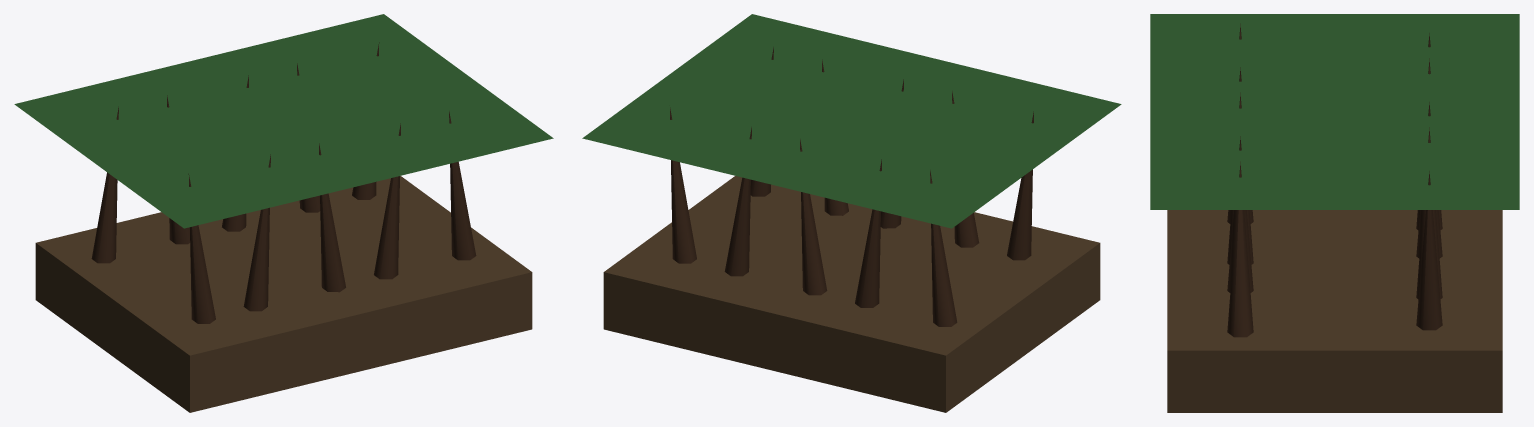
File: punji-trap.glb
3 views of the same model, side by side, from view 1: azimuth 30°, elevation 25°; view 2: azimuth 150°, elevation 25°; view 3: azimuth 270°, elevation 25° (orthographic). The views are drawn at different scales.
Parts seen in each view (by area): view 1: pit, leafCover, stake7, stake9, stake10, stake8, stake6, stake1; view 2: pit, leafCover, stake3, stake1, stake5, stake4, stake2, stake6, stake7; view 3: leafCover, pit, stake10, stake5, stake4, stake9, stake3, stake8.
Boxes of the visible parts, <box> form: pit: <box>35,176,532,412</box>; leafCover: <box>14,14,553,228</box>; stake7: <box>243,154,270,311</box>; stake9: <box>374,123,400,279</box>; stake10: <box>449,111,476,260</box>; stake8: <box>319,143,345,292</box>; stake6: <box>188,173,215,323</box>; stake1: <box>91,106,118,263</box>; pit: <box>603,176,1100,412</box>; leafCover: <box>582,14,1121,228</box>; stake3: <box>800,139,827,295</box>; stake1: <box>930,170,957,326</box>; stake5: <box>670,107,696,263</box>; stake4: <box>724,127,751,276</box>; stake2: <box>855,159,881,307</box>; stake6: <box>1007,111,1033,260</box>; stake7: <box>952,91,979,247</box>; leafCover: <box>1150,14,1519,209</box>; pit: <box>1167,210,1502,412</box>; stake10: <box>1227,161,1253,337</box>; stake5: <box>1416,171,1442,330</box>; stake4: <box>1416,127,1442,299</box>; stake9: <box>1227,136,1253,292</box>; stake3: <box>1416,102,1442,258</box>; stake8: <box>1227,92,1253,264</box>.
Bounding box in the file's own units: 1.08 × 0.5787 × 0.86.
